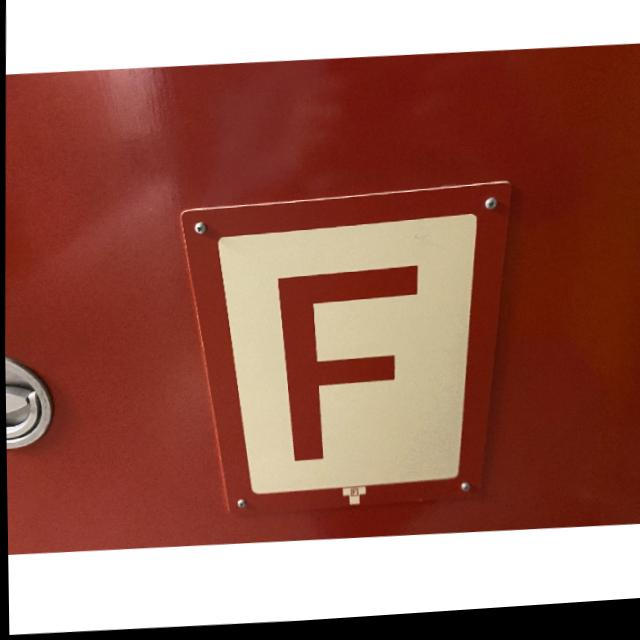fire extinguisher: (174, 182, 513, 525)
